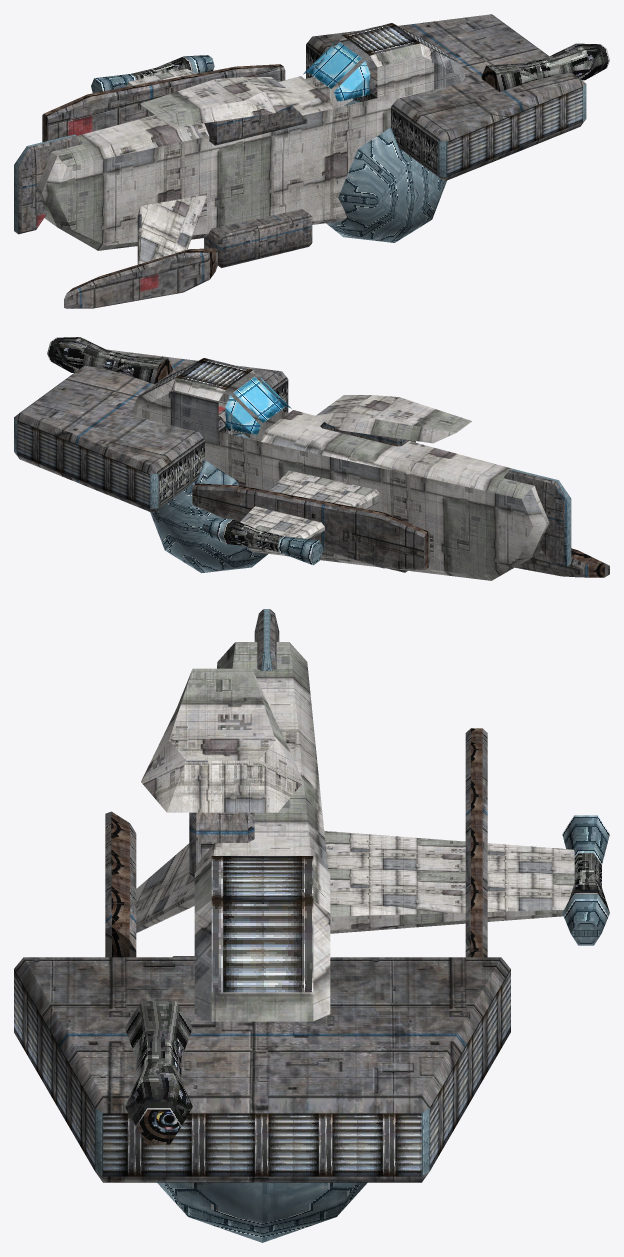
The model's file is npc10.obj.
The picture shows the model from 3 angles, top to bottom: view 1: azimuth 30°, elevation 25°; view 2: azimuth 150°, elevation 25°; view 3: azimuth 270°, elevation 25°; orthographic projection. The views are drawn at different scales.
Parts seen in each view (by area): view 1: BODY0.007, BACK0, WHEEL0, HAND0, HAND020, HAND030, ARM030, ARM020, PIPE0, HOOD_ORN0, ARM040, LOOKY0 (+1 smaller); view 2: BODY0.007, BACK0, HAND0, WHEEL0, HAND030, ARM0, PIPE0, HOOD_ORN0, LOOKY0, HAND020, ARM040; view 3: BACK0, BODY0.007, ARM0, HAND030, WHEEL0, PIPE0, HAND0, LOOKY0, HAND020, ARM020, ARM040, HOOD_ORN0.
Boxes of the visible parts, bbox=[...] form: BODY0.007: bbox=[36, 23, 465, 250]; BACK0: bbox=[306, 14, 586, 181]; WHEEL0: bbox=[326, 99, 446, 242]; HAND0: bbox=[42, 64, 285, 142]; HAND020: bbox=[64, 248, 217, 308]; HAND030: bbox=[140, 77, 301, 126]; ARM030: bbox=[204, 209, 312, 267]; ARM020: bbox=[137, 195, 206, 264]; PIPE0: bbox=[481, 43, 609, 91]; HOOD_ORN0: bbox=[14, 134, 82, 234]; ARM040: bbox=[204, 105, 307, 145]; LOOKY0: bbox=[91, 55, 214, 93]; BODY0.007: bbox=[132, 358, 549, 580]; BACK0: bbox=[14, 349, 288, 512]; HAND0: bbox=[192, 483, 429, 570]; WHEEL0: bbox=[150, 433, 267, 573]; HAND030: bbox=[314, 395, 471, 443]; ARM0: bbox=[240, 470, 379, 538]; PIPE0: bbox=[47, 337, 172, 384]; HOOD_ORN0: bbox=[504, 469, 571, 566]; LOOKY0: bbox=[202, 518, 322, 565]; HAND020: bbox=[515, 548, 609, 577]; ARM040: bbox=[320, 422, 415, 446]; BACK0: bbox=[14, 957, 510, 1182]; BODY0.007: bbox=[194, 642, 330, 1021]; ARM0: bbox=[324, 831, 574, 933]; HAND030: bbox=[141, 668, 303, 812]; WHEEL0: bbox=[157, 1182, 367, 1242]; PIPE0: bbox=[124, 1001, 192, 1144]; HAND0: bbox=[465, 728, 487, 957]; LOOKY0: bbox=[562, 815, 609, 945]; HAND020: bbox=[105, 811, 136, 957]; ARM020: bbox=[136, 843, 194, 932]; ARM040: bbox=[189, 812, 254, 880]; HOOD_ORN0: bbox=[254, 609, 279, 670].
Size of the model in its own units: 56.56 by 19.18 by 29.02.
Materials: 23 (23 with a texture image).
